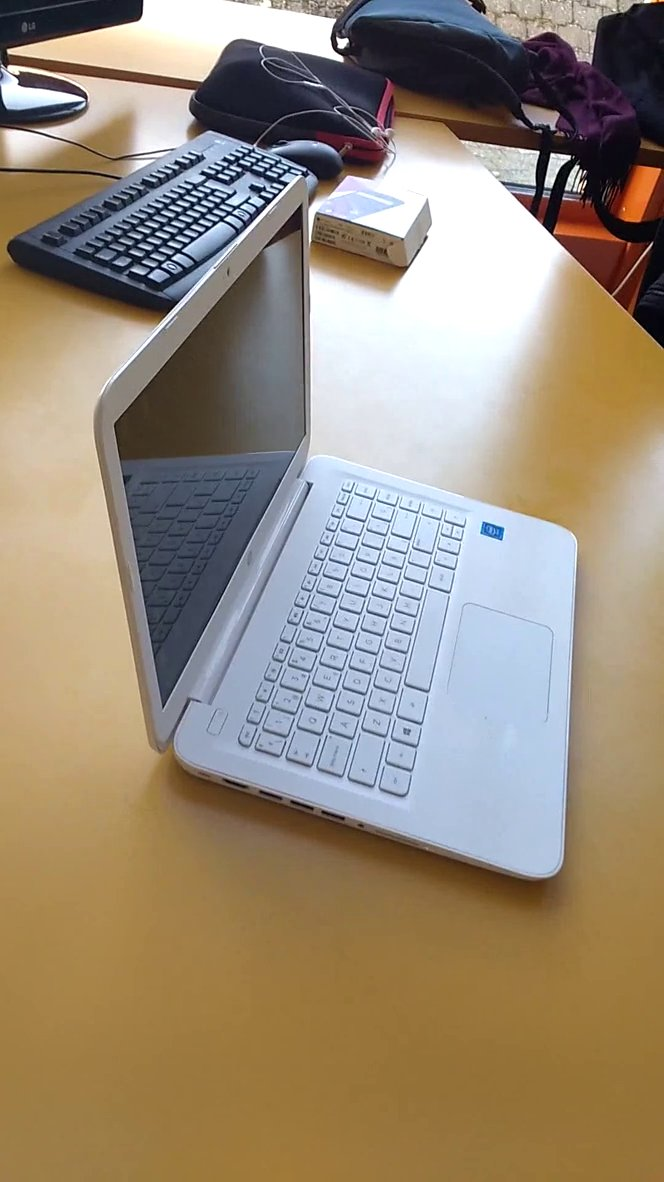bag: (327, 1, 563, 130)
laptop: (84, 159, 604, 913)
